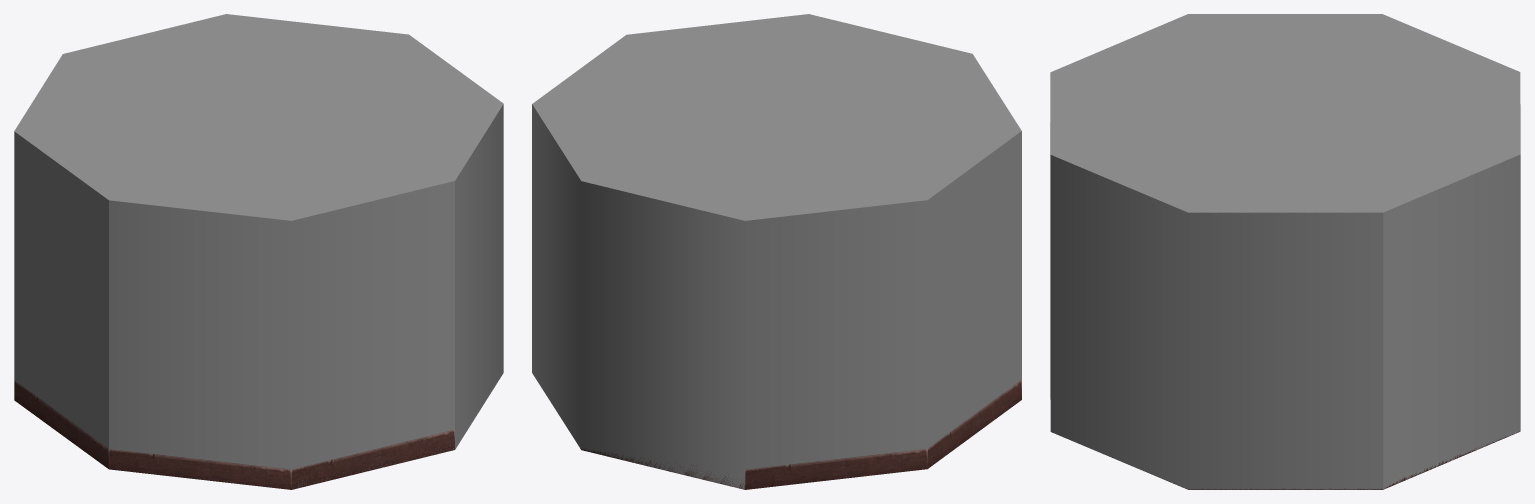
File: Scene_Build_HuanYinFang_XiangLu_4.FBX
The picture shows the model from 3 angles, left to right: view 1: azimuth 30°, elevation 25°; view 2: azimuth 150°, elevation 25°; view 3: azimuth 270°, elevation 25°; orthographic projection. The views are drawn at different scales.
Parts seen in each view (by area): view 1: Scene_Build_HuanYinFang_XiangLu_4_Xzm, Scene_Build_HuanYinFang_XiangLu_4; view 2: Scene_Build_HuanYinFang_XiangLu_4_Xzm, Scene_Build_HuanYinFang_XiangLu_4; view 3: Scene_Build_HuanYinFang_XiangLu_4_Xzm, Scene_Build_HuanYinFang_XiangLu_4.
Boxes of the visible parts, <box> form: Scene_Build_HuanYinFang_XiangLu_4_Xzm: <box>14,14,503,487</box>; Scene_Build_HuanYinFang_XiangLu_4: <box>14,380,454,489</box>; Scene_Build_HuanYinFang_XiangLu_4_Xzm: <box>532,14,1021,489</box>; Scene_Build_HuanYinFang_XiangLu_4: <box>577,380,1021,489</box>; Scene_Build_HuanYinFang_XiangLu_4_Xzm: <box>1050,14,1520,489</box>; Scene_Build_HuanYinFang_XiangLu_4: <box>1062,431,1519,489</box>.
Bounding box in the file's own units: 620 × 403 × 620.
